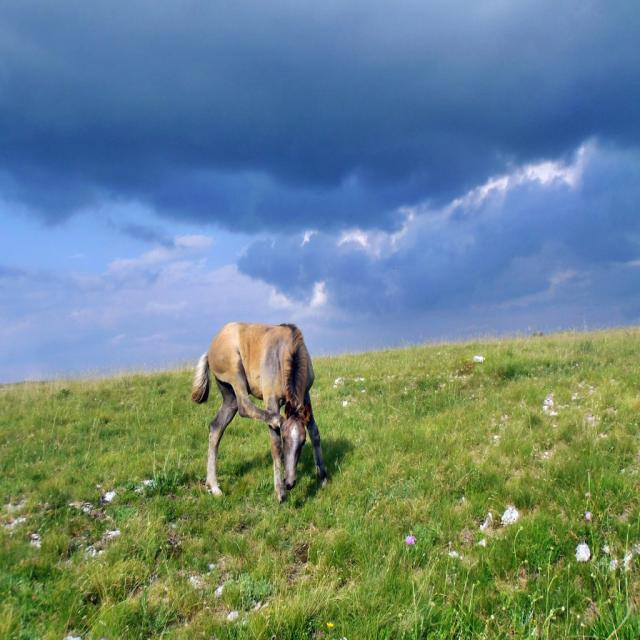Horse: (190, 324, 330, 505)
